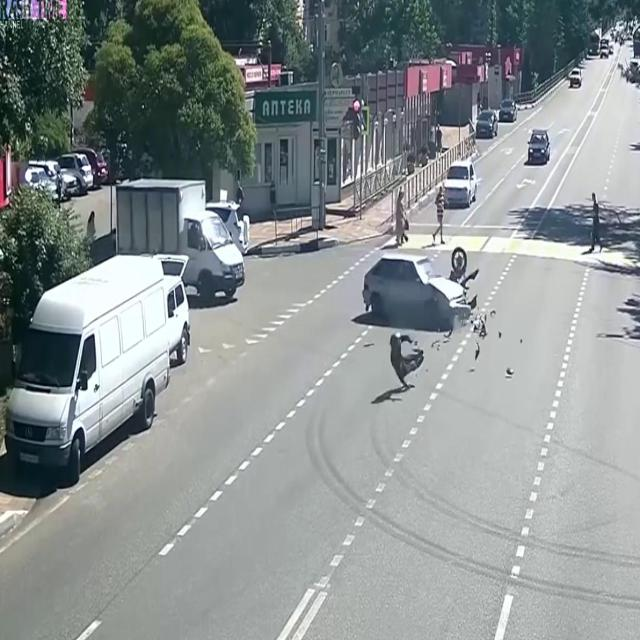accident: (351, 241, 504, 403)
non_accident: (0, 142, 251, 495)
